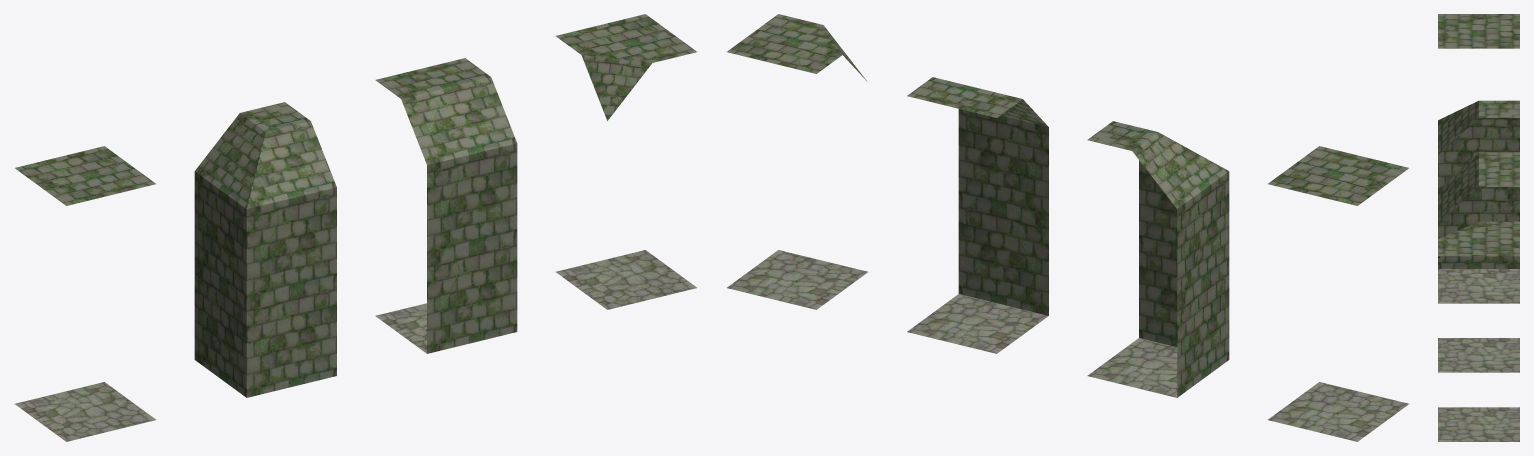
File: DungeonBuildingGridFixed.glb
The picture shows the model from 3 angles, left to right: view 1: azimuth 30°, elevation 25°; view 2: azimuth 150°, elevation 25°; view 3: azimuth 270°, elevation 25°; orthographic projection. The views are drawn at different scales.
Visible parts, largest first — view 1: incorner-col, wall-col, outcorner-col, nowall-col; view 2: wall-col, incorner-col, nowall-col, outcorner-col; view 3: incorner-col, wall-col, outcorner-col, nowall-col.
Part boxes in pixels (x1=…): incorner-col: x1=194, y1=102, x2=336, y2=397; wall-col: x1=375, y1=58, x2=517, y2=353; outcorner-col: x1=556, y1=14, x2=696, y2=309; nowall-col: x1=15, y1=146, x2=155, y2=441; wall-col: x1=907, y1=77, x2=1048, y2=353; incorner-col: x1=1087, y1=121, x2=1229, y2=397; nowall-col: x1=1268, y1=146, x2=1408, y2=441; outcorner-col: x1=727, y1=14, x2=867, y2=309; incorner-col: x1=1438, y1=100, x2=1519, y2=303; wall-col: x1=1438, y1=152, x2=1519, y2=372; outcorner-col: x1=1438, y1=221, x2=1519, y2=441; nowall-col: x1=1438, y1=14, x2=1519, y2=48.
Size of the model in its own units: 14 by 5 by 2.
1 material, 1 textured.
